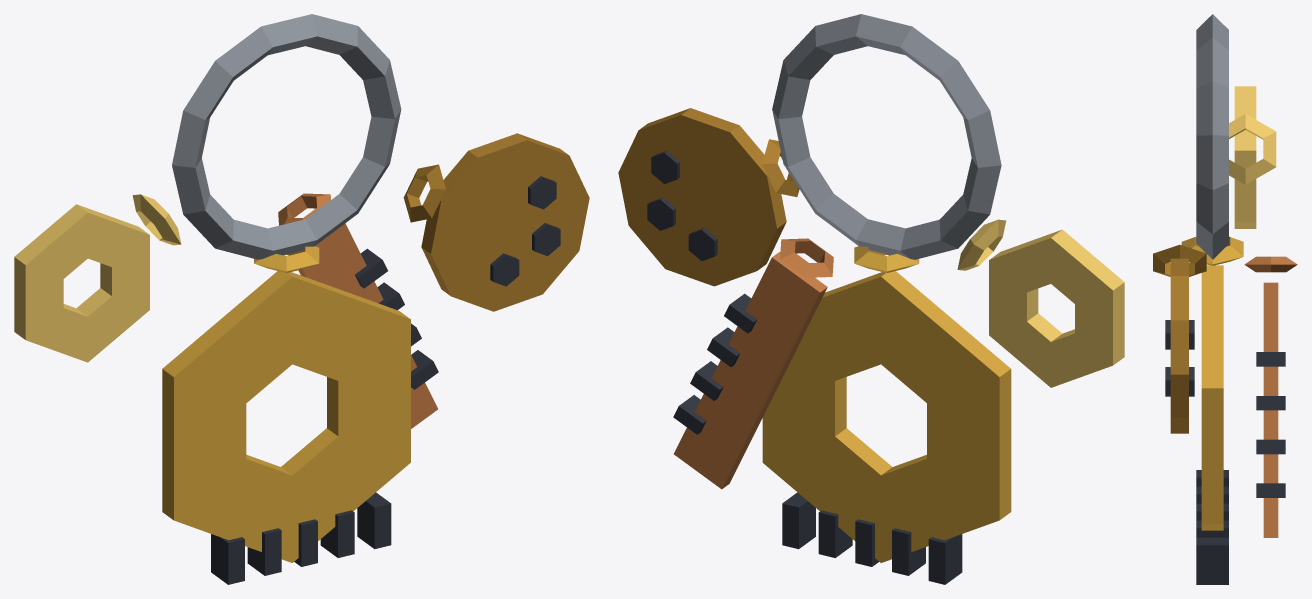
Rendered from miner_tally.glb.
3 views of the same model, side by side, from view 1: azimuth 30°, elevation 25°; view 2: azimuth 150°, elevation 25°; view 3: azimuth 270°, elevation 25° (orthographic). The views are drawn at different scales.
Parts seen in each view (by area): view 1: miner_tally; view 2: miner_tally; view 3: miner_tally.
Boxes of the visible parts, x1,y1,x2,y2 form: miner_tally: (14,14,589,584); miner_tally: (618,14,1124,584); miner_tally: (1153,14,1297,584).
Size of the model in its own units: 0.1595 by 0.1558 by 0.0397.
